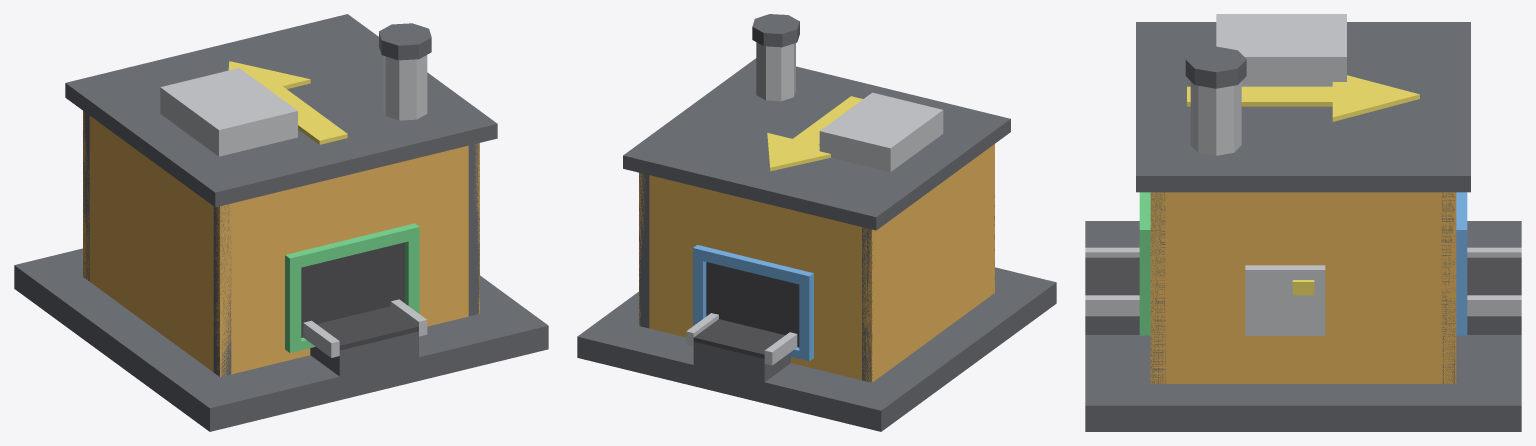
File: Machine_Constructor.fbx
3 renders of one model, left to right at view 1: azimuth 30°, elevation 25°; view 2: azimuth 150°, elevation 25°; view 3: azimuth 270°, elevation 25°, orthographic. The views are drawn at different scales.
Parts seen in each view (by area): view 1: Machine_Constructor; view 2: Machine_Constructor; view 3: Machine_Constructor.
Boxes of the visible parts, <box> form: Machine_Constructor: <box>14,14,548,431</box>; Machine_Constructor: <box>577,14,1056,431</box>; Machine_Constructor: <box>1085,14,1521,431</box>.
Size of the model in its own units: 6 by 4.95 by 6.
